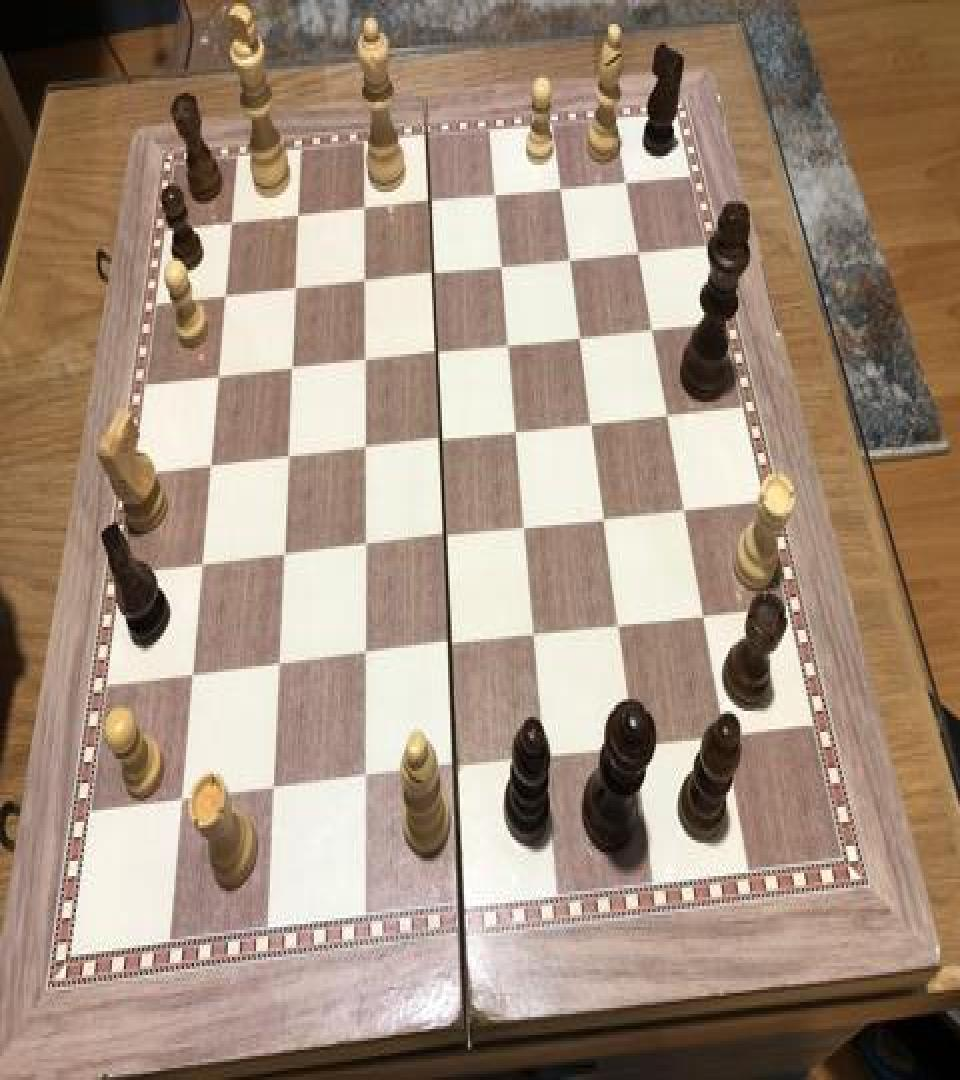xcorner: (434, 520, 458, 557), (696, 601, 720, 638), (611, 610, 635, 647), (353, 640, 377, 677), (627, 733, 651, 770), (445, 754, 469, 791), (617, 165, 641, 201), (551, 171, 575, 207), (485, 177, 509, 213), (419, 184, 443, 220), (353, 190, 377, 226), (287, 198, 311, 234), (220, 204, 244, 240), (630, 236, 654, 272), (561, 242, 585, 278), (492, 249, 516, 285), (423, 256, 447, 292), (353, 262, 377, 298), (283, 270, 307, 306), (213, 278, 237, 314), (644, 312, 668, 348), (571, 320, 595, 356), (499, 327, 523, 363), (426, 334, 450, 370), (280, 351, 304, 387), (206, 358, 230, 394), (659, 399, 683, 435), (583, 406, 607, 442), (507, 416, 531, 452), (430, 423, 454, 459), (276, 440, 300, 476), (198, 447, 222, 483), (677, 495, 701, 531), (596, 502, 620, 538), (515, 512, 539, 548), (353, 530, 377, 566), (271, 538, 295, 574), (189, 548, 213, 584), (525, 621, 549, 657), (439, 630, 463, 666), (266, 650, 290, 686), (179, 658, 203, 694), (718, 723, 742, 759), (536, 744, 560, 780), (353, 765, 377, 801), (261, 776, 285, 812), (168, 786, 192, 822), (353, 344, 377, 379), (353, 431, 377, 466)
